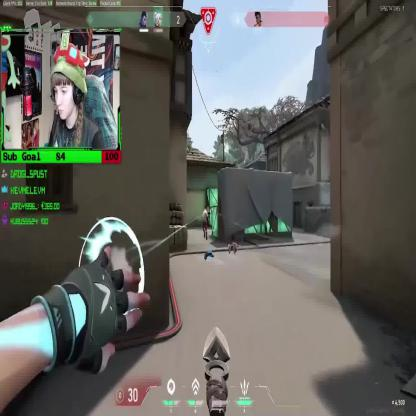enemy: (201, 204, 210, 241)
enemy_head: (205, 206, 208, 212)
